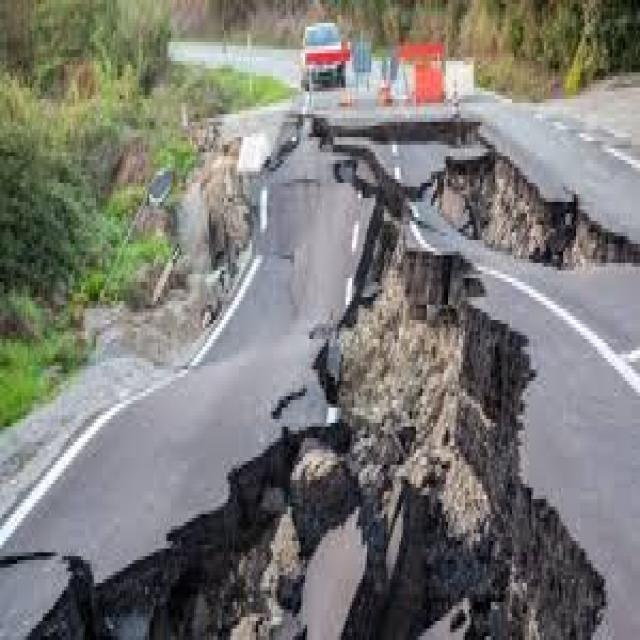Earthquake: (181, 22, 633, 640)
